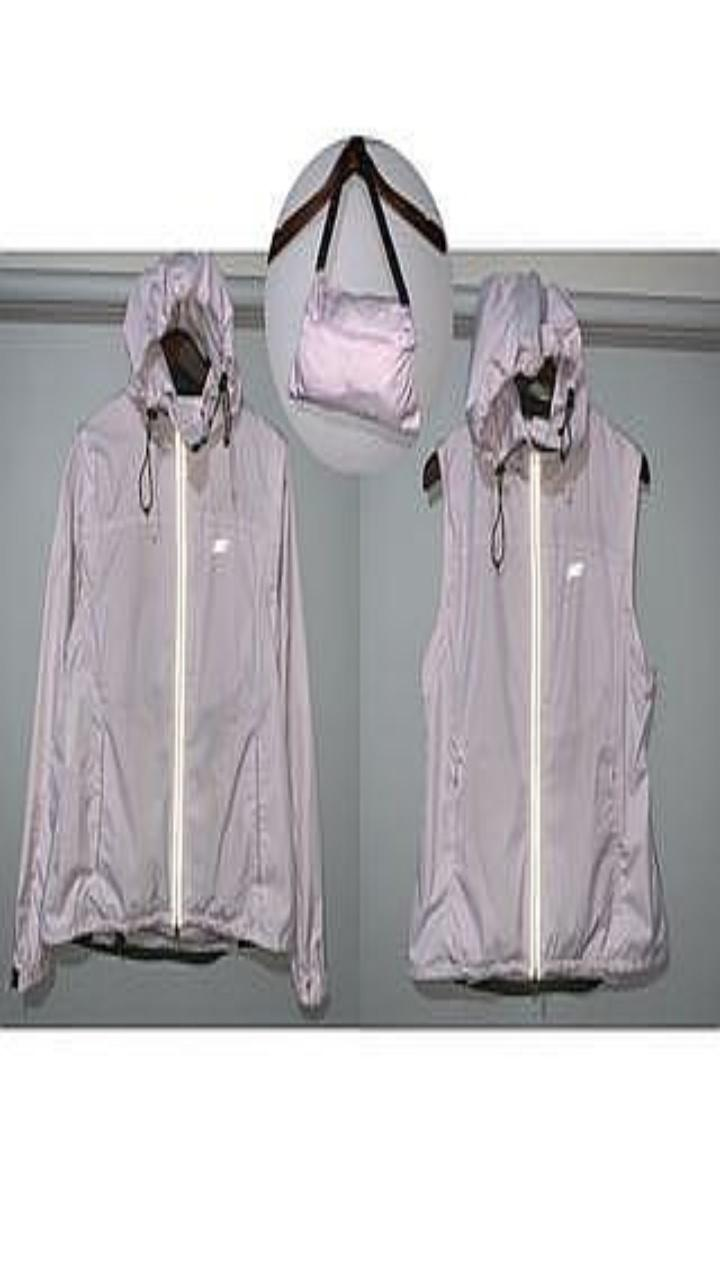Sports_Jacket: (14, 254, 325, 1005), (410, 273, 667, 984)
